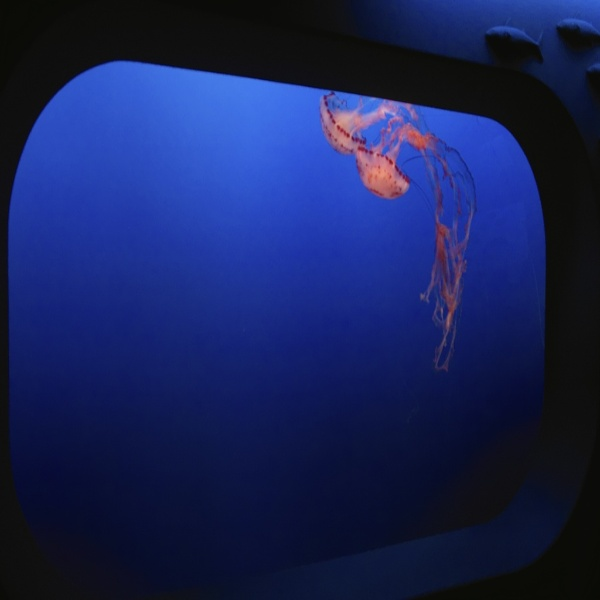Jellyfish: (355, 113, 476, 372), (319, 87, 422, 155)
